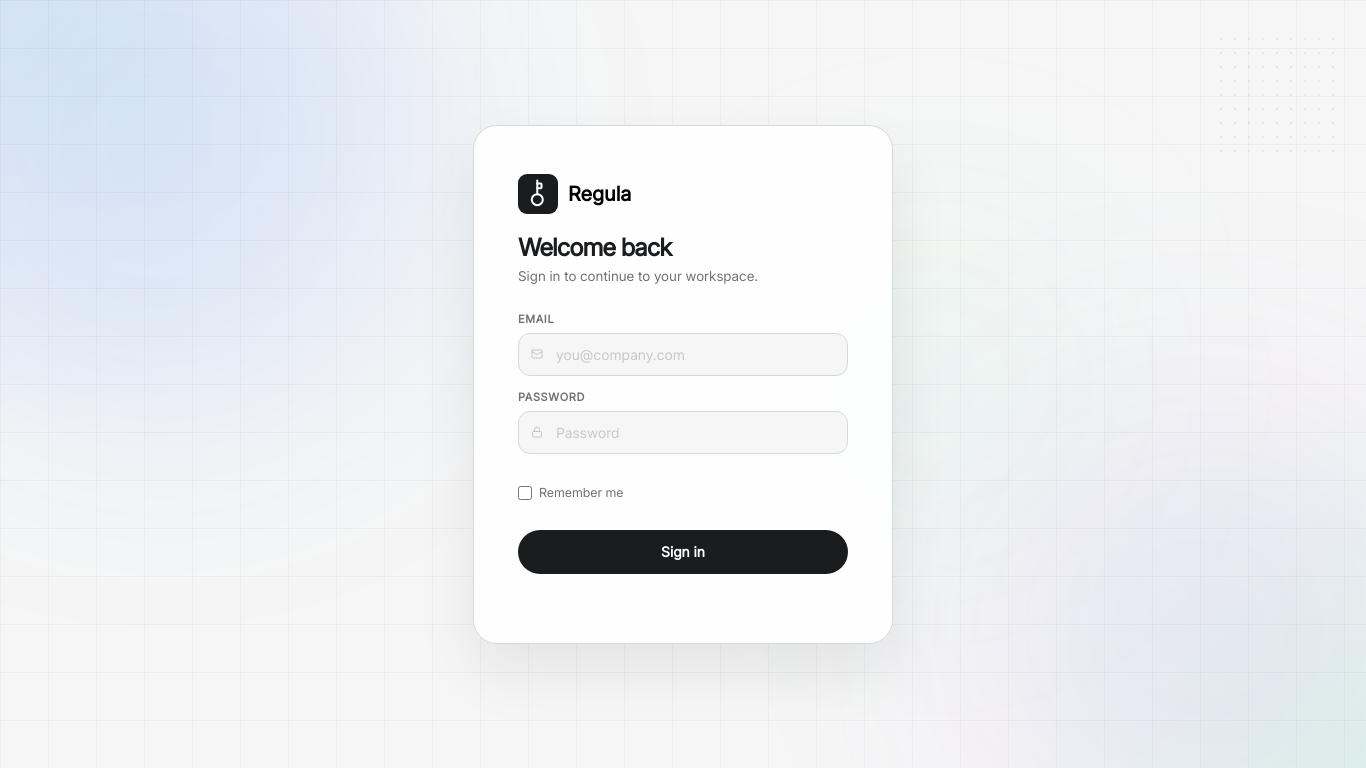
Test: Login view › shows an error when sign-in fails
Type "admin@example.com" into the field labelled "Email" at (683, 354), box [518,332,848,375]
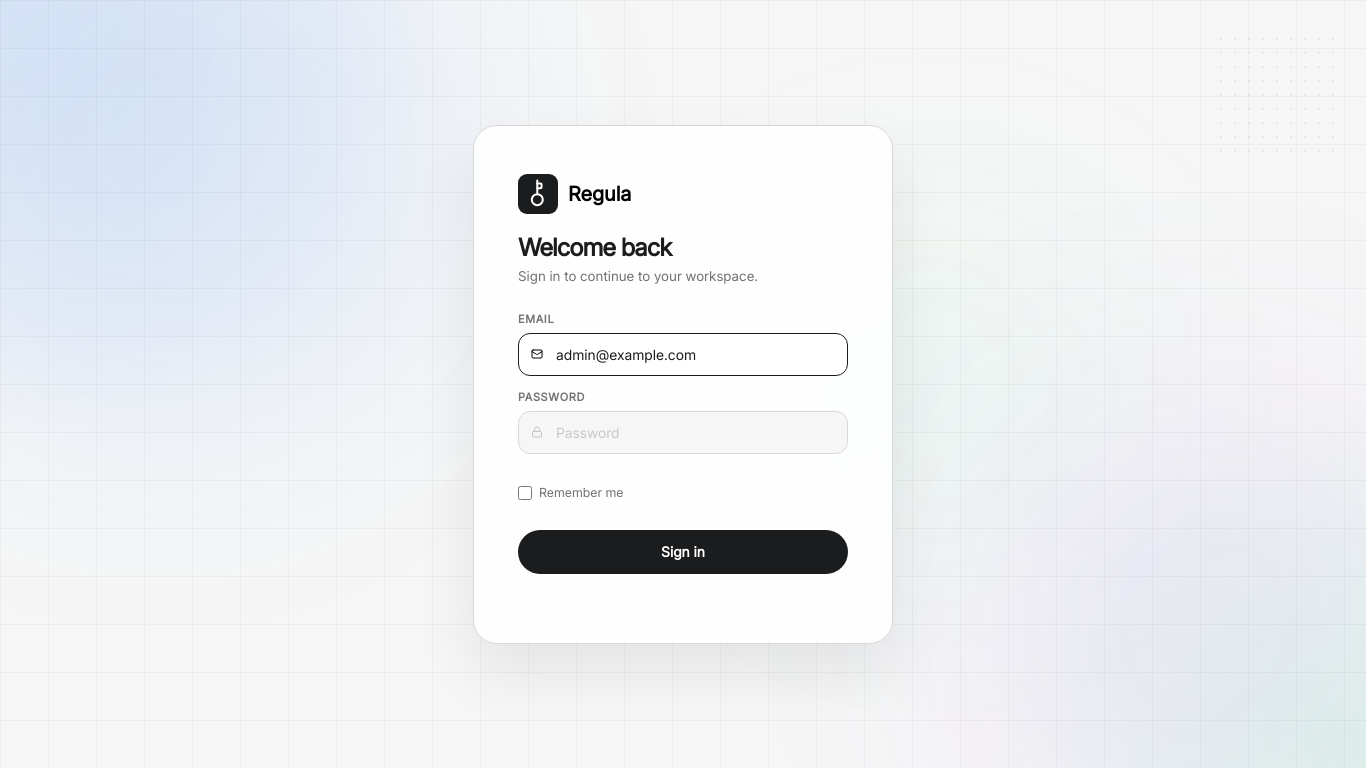
Type "wrong-password" into the password field with placeholder "Password" at (683, 432), box [518,410,848,453]
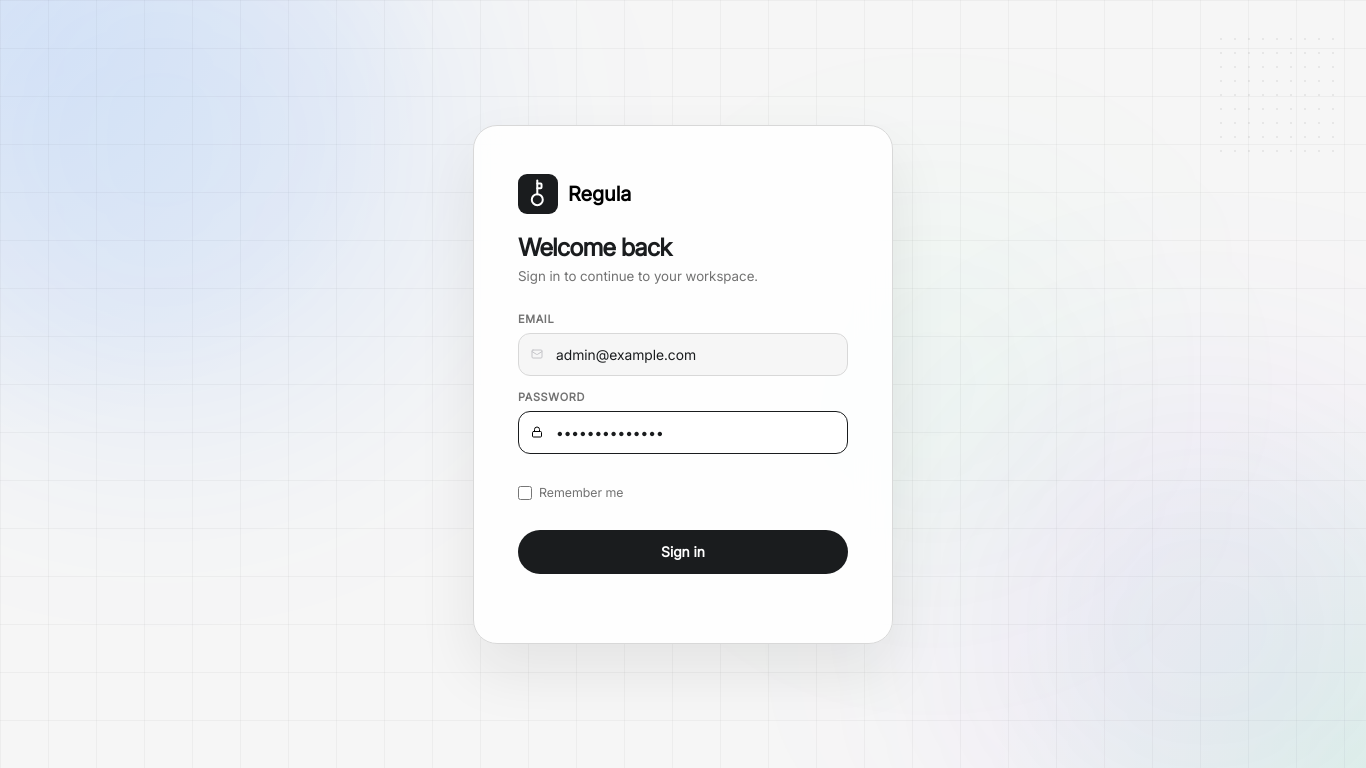
Click the button "Sign in" at (683, 551), box [518,529,848,573]
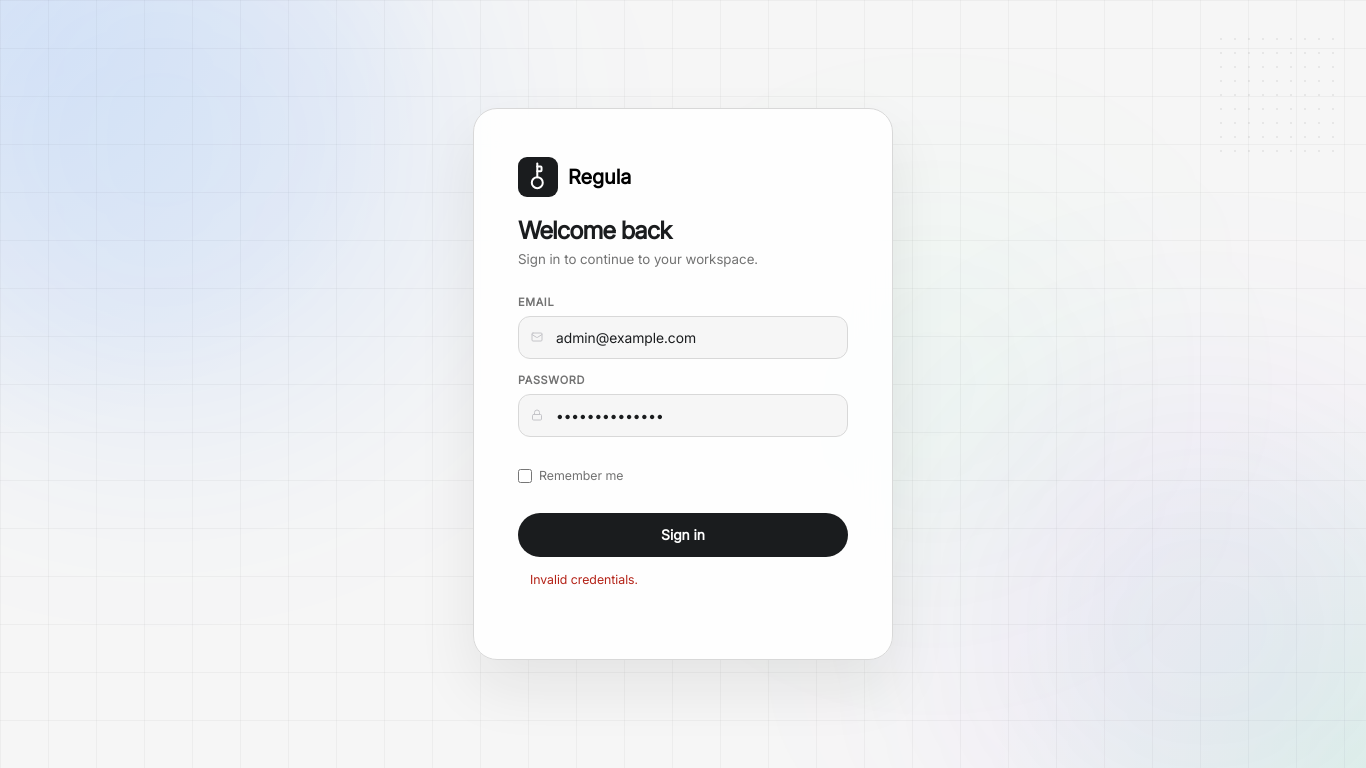
Now the text "Invalid credentials." is shown, box [530,572,638,587]
